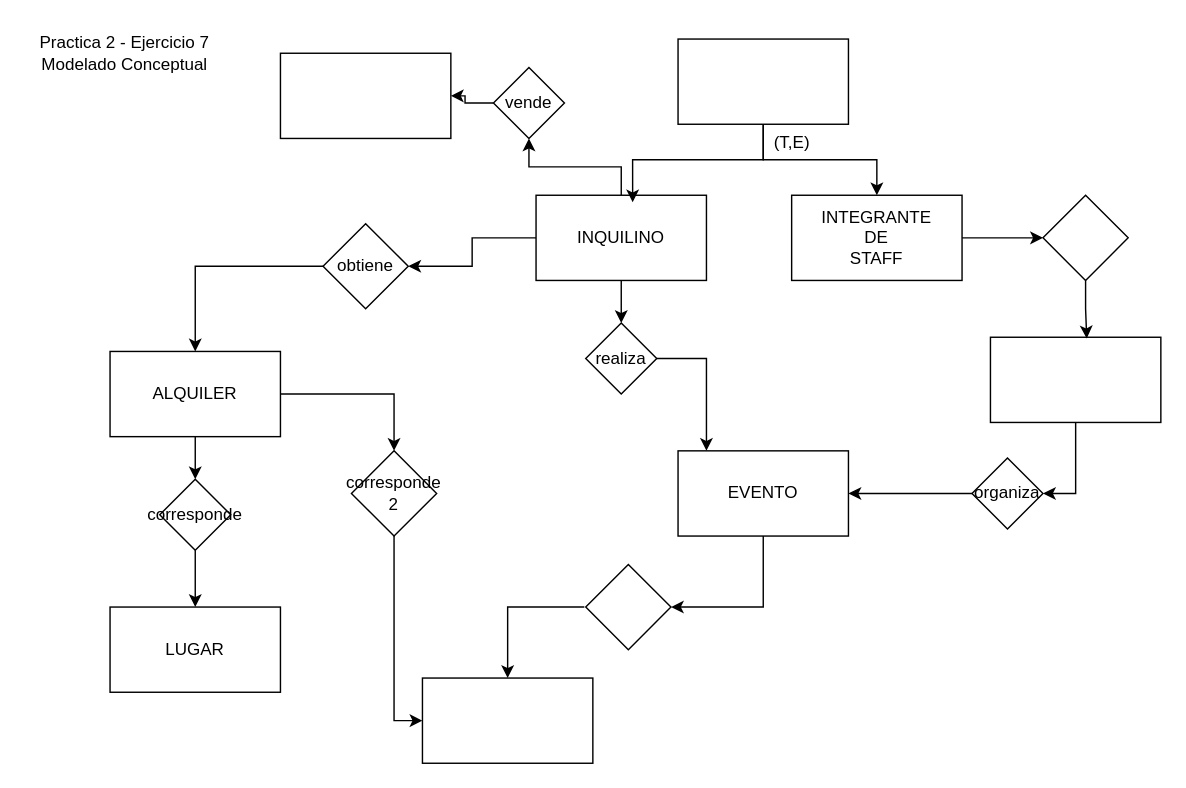
The diagram is 1186 pixels wide and 788 high, and some of its shapes have lost their labels. The box of each missing label's shape, as (x1, y1, x2, y2) in pixels:
alquila: (584, 563, 671, 650)
GASTRONOMIA: (279, 52, 451, 138)
PERSONA: (677, 38, 848, 124)
pertenece: (1042, 194, 1128, 280)
SERVICIO: (421, 677, 593, 763)
STAFF: (989, 336, 1161, 422)
